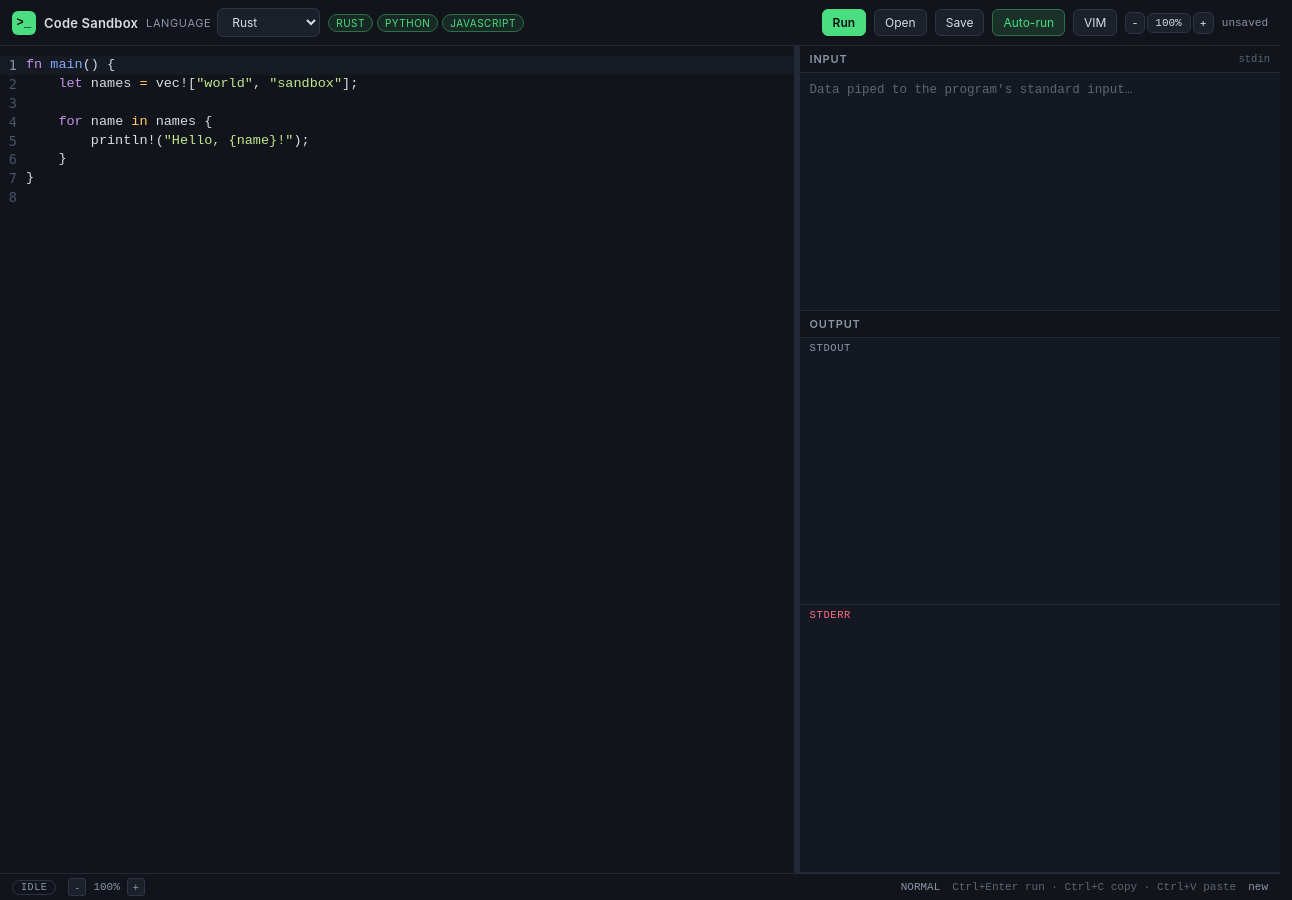
Test: Code Sandbox › opens a file and loads its contents
Click the button "Open": (900, 22) [874,9,927,36]
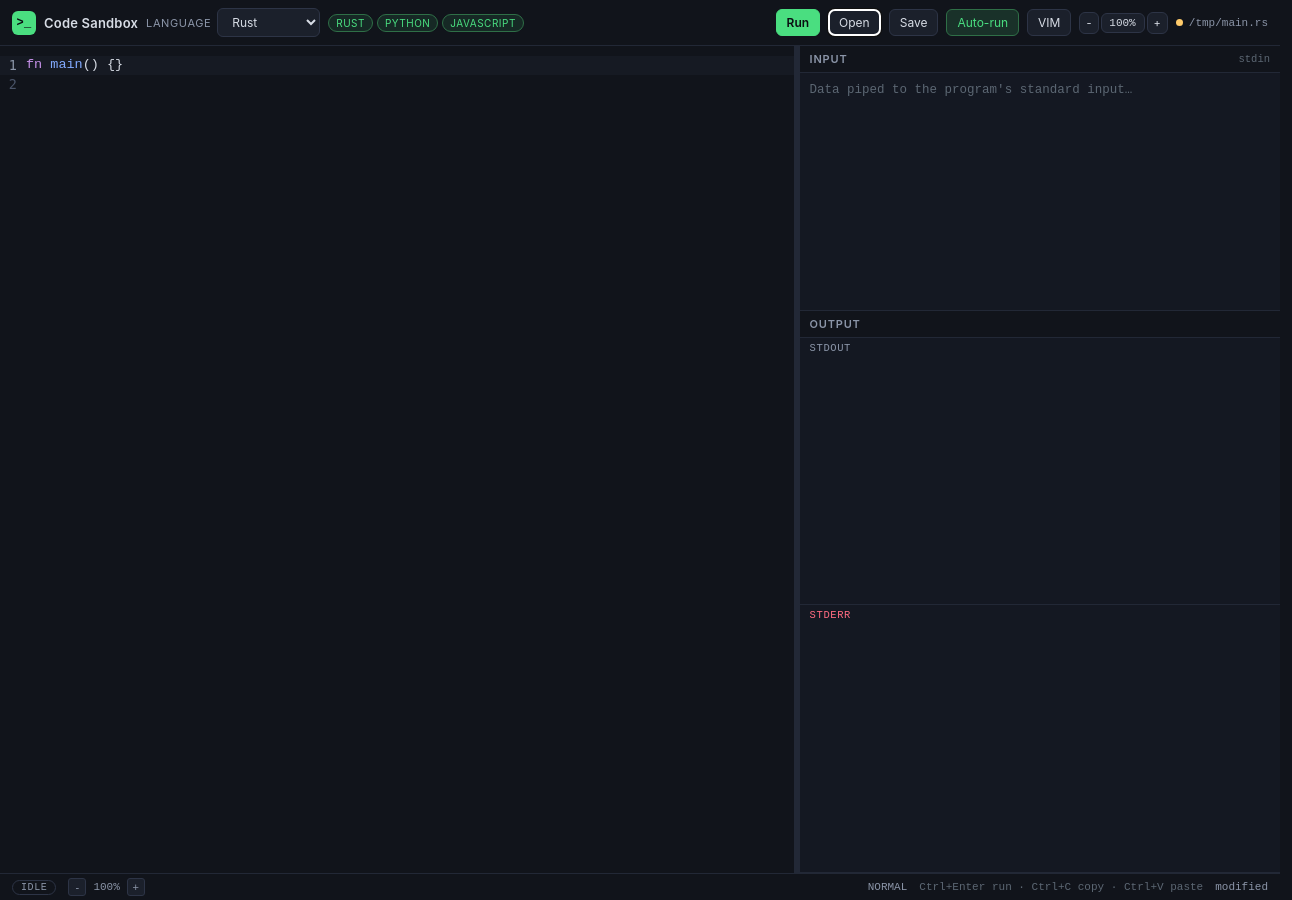
Now the element showing "/tmp/main.rs" is shown, box [1176,16,1268,28]
